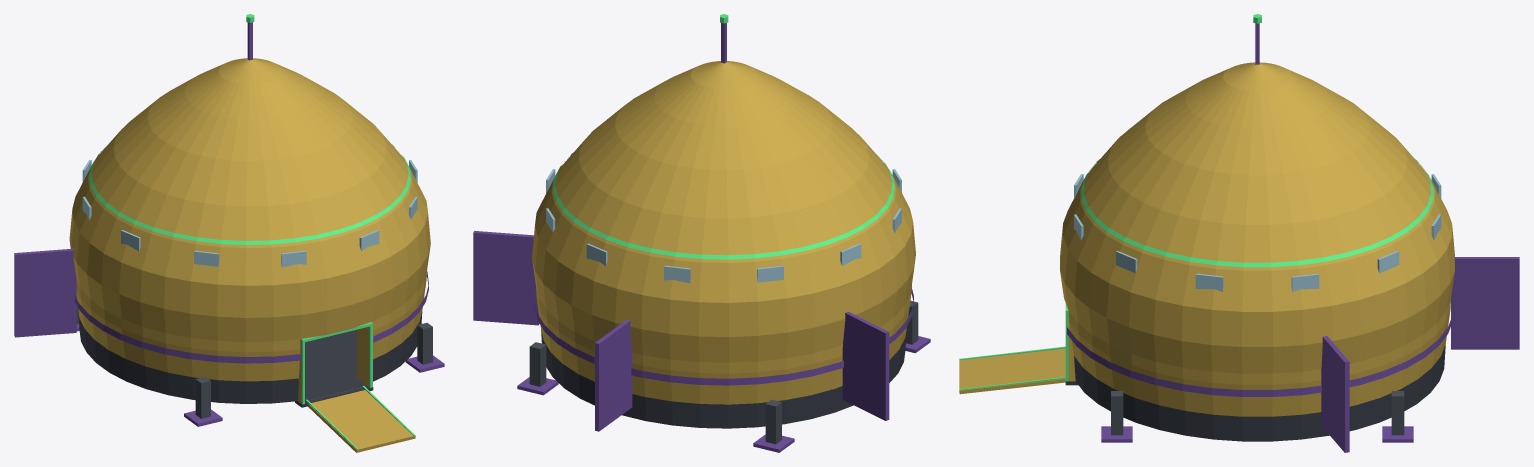
The model's file is GV_ShipEgg_01.glb.
The picture shows the model from 3 angles, left to right: view 1: azimuth 30°, elevation 25°; view 2: azimuth 150°, elevation 25°; view 3: azimuth 270°, elevation 25°; orthographic projection. The views are drawn at different scales.
Parts seen in each view (by area): view 1: GV_ShipEgg_01, ShipRamp, ShipLeg_4, ShipLeg_3; view 2: GV_ShipEgg_01, ShipLeg_1, ShipLeg_2, ShipLeg_3; view 3: GV_ShipEgg_01, ShipRamp, ShipLeg_1, ShipLeg_4.
Boxes of the visible parts, box(x1,y1,x2,y2) form: GV_ShipEgg_01: box(14, 14, 430, 407); ShipRamp: box(305, 385, 415, 452); ShipLeg_4: box(405, 322, 444, 372); ShipLeg_3: box(184, 377, 222, 426); GV_ShipEgg_01: box(473, 14, 915, 431); ShipLeg_1: box(517, 342, 558, 395); ShipLeg_2: box(753, 399, 794, 452); ShipLeg_3: box(905, 300, 930, 353); GV_ShipEgg_01: box(1060, 14, 1519, 452); ShipRamp: box(959, 346, 1065, 394); ShipLeg_1: box(1382, 391, 1413, 442); ShipLeg_4: box(1101, 391, 1132, 442).
Size of the model in its own units: 15.84 by 12.81 by 17.96.
Materials: 1 (1 with a texture image).
